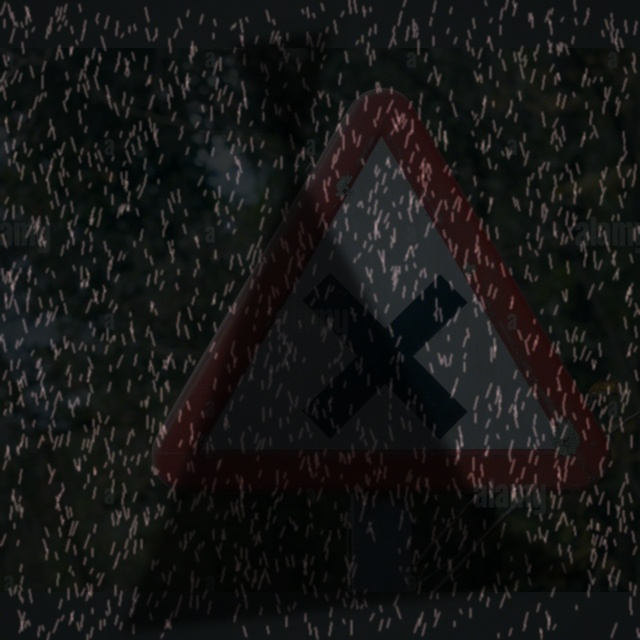Cross_Road: (160, 88, 608, 491)
